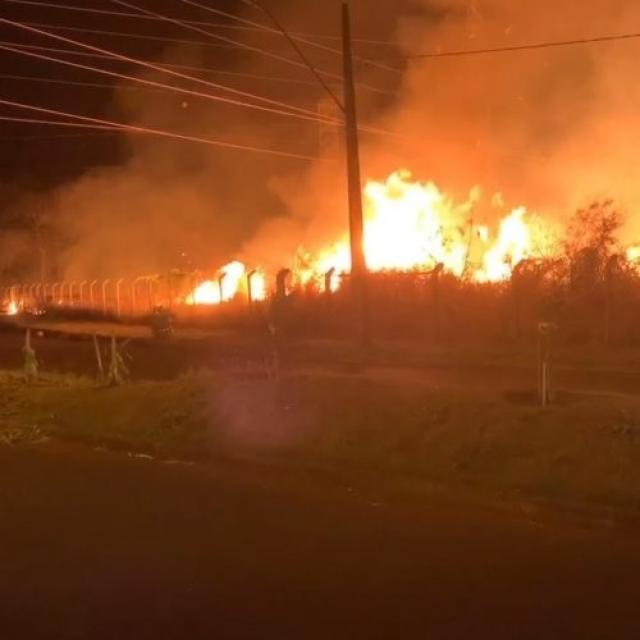Fire: (360, 179, 539, 284), (285, 236, 352, 294), (186, 264, 262, 300), (5, 297, 21, 314)
Smoke: (9, 12, 337, 284), (229, 12, 640, 185)
